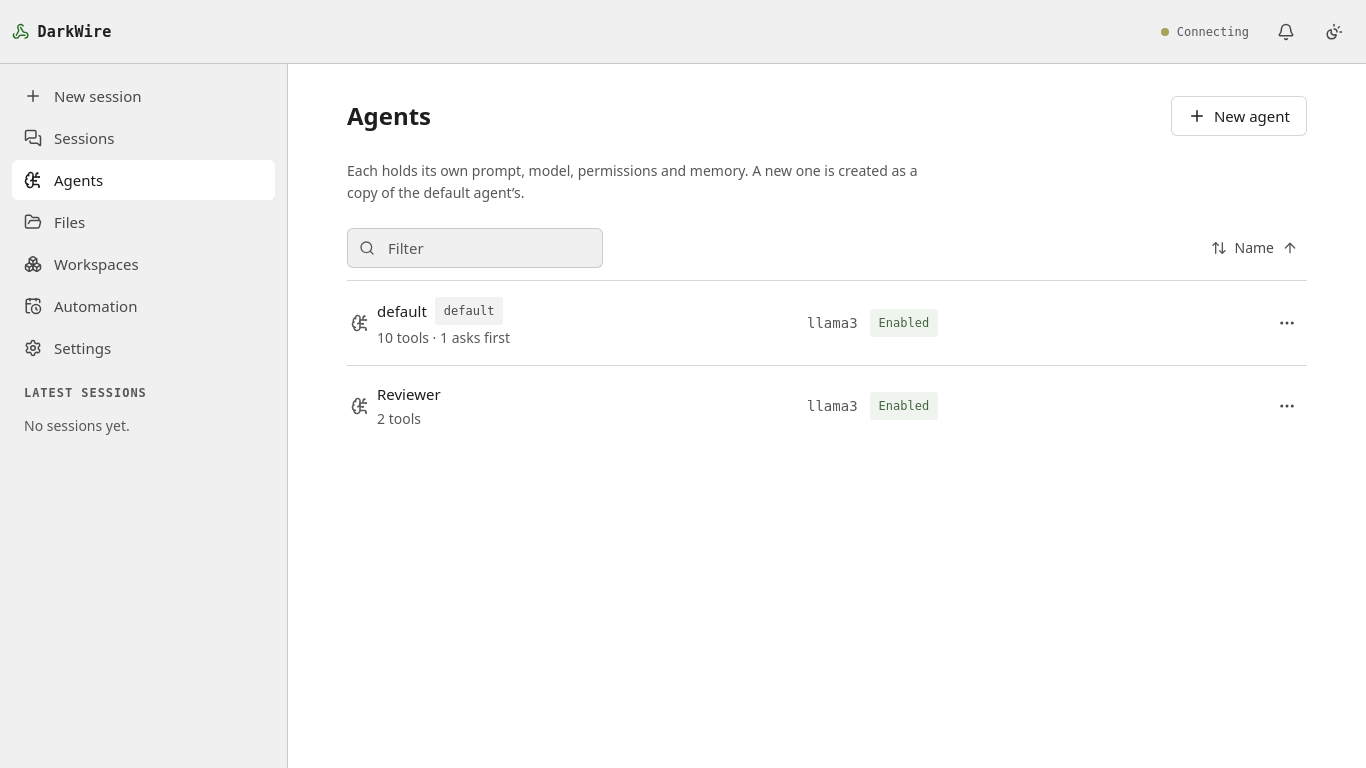
Test: the agents index › offers no Rename, because the name is a field in the editor
Step 1. Click the button named "Actions for Reviewer" → (1287, 406), box [1267,386,1307,426]
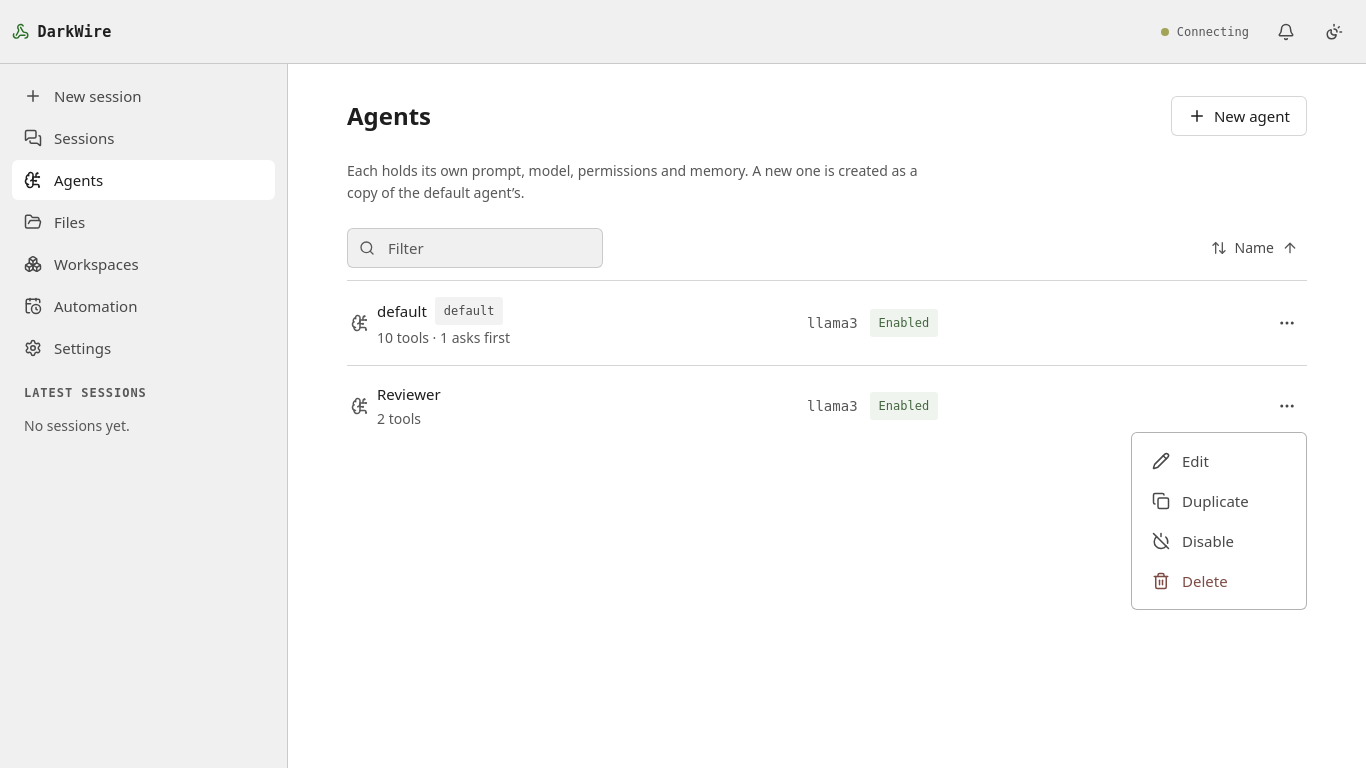
Check: the menu item "Edit" is shown, box [1152,451,1209,471]
